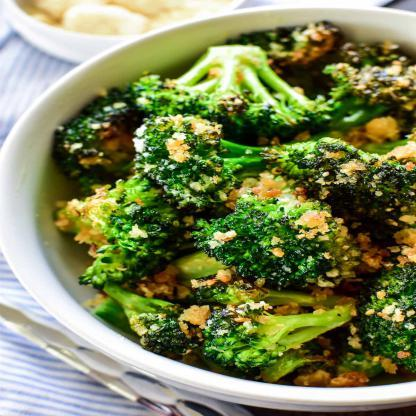broccoli: (51, 16, 416, 388)
